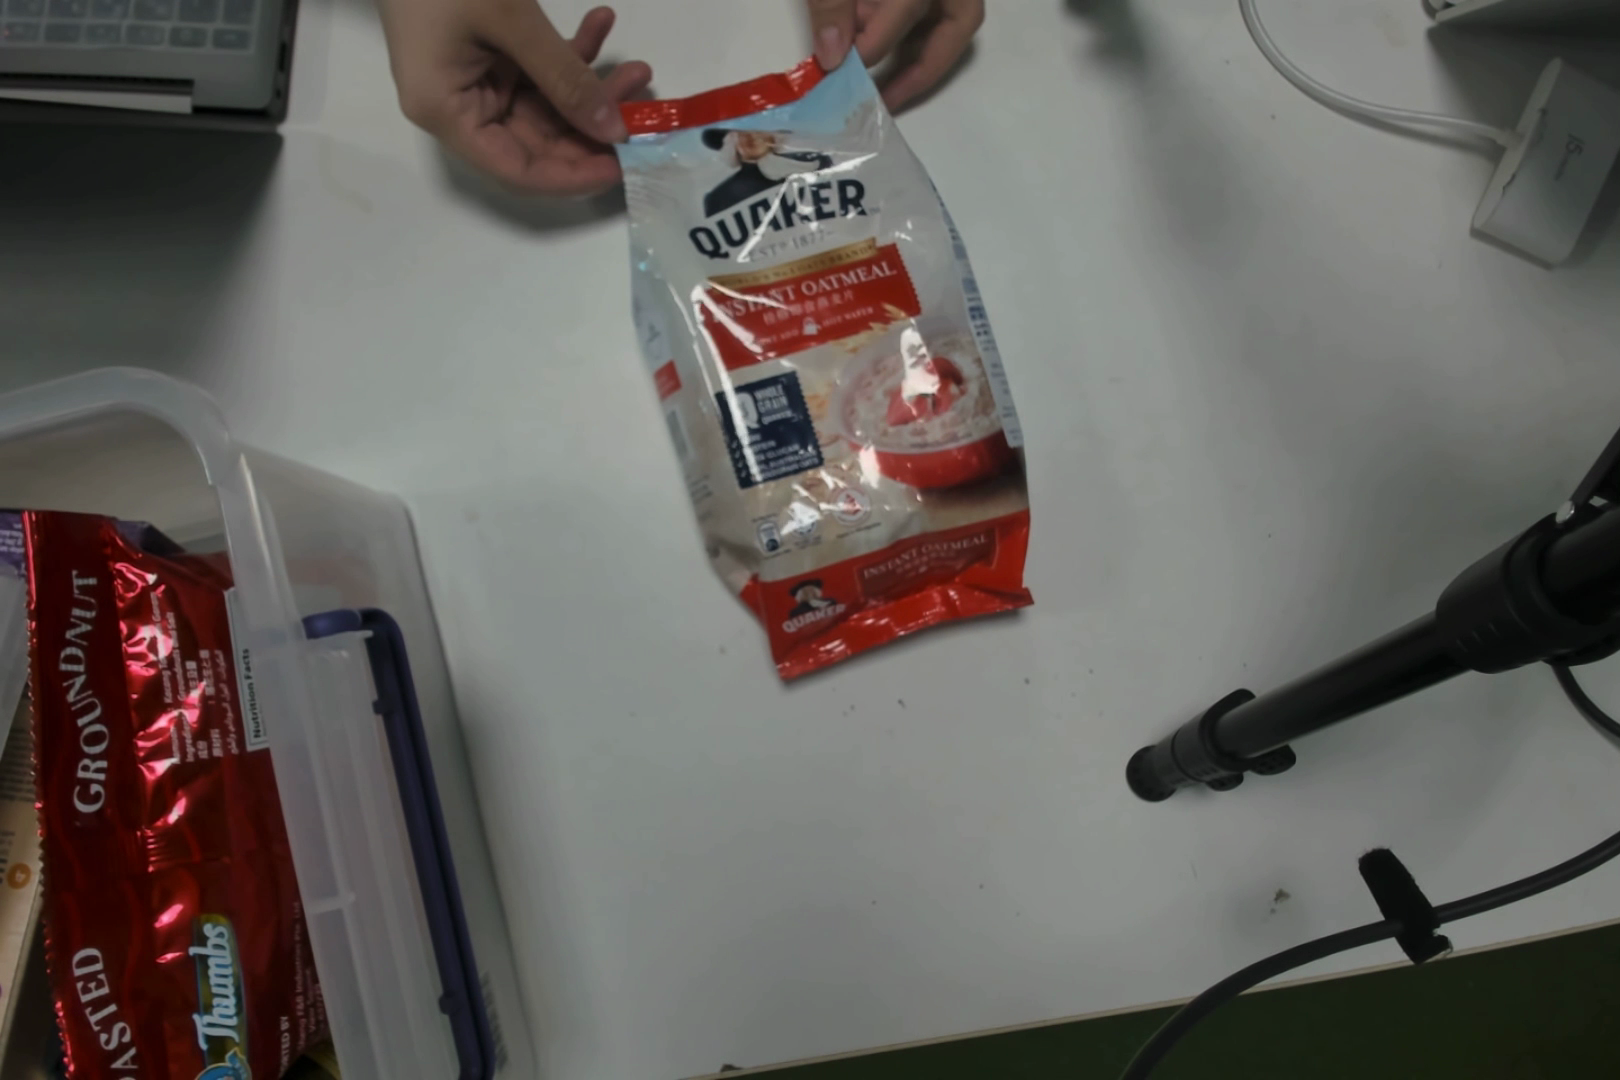RolledOatsInstantOatmeal_400-499g_Halal_Healthy: (659, 113, 1078, 665)
